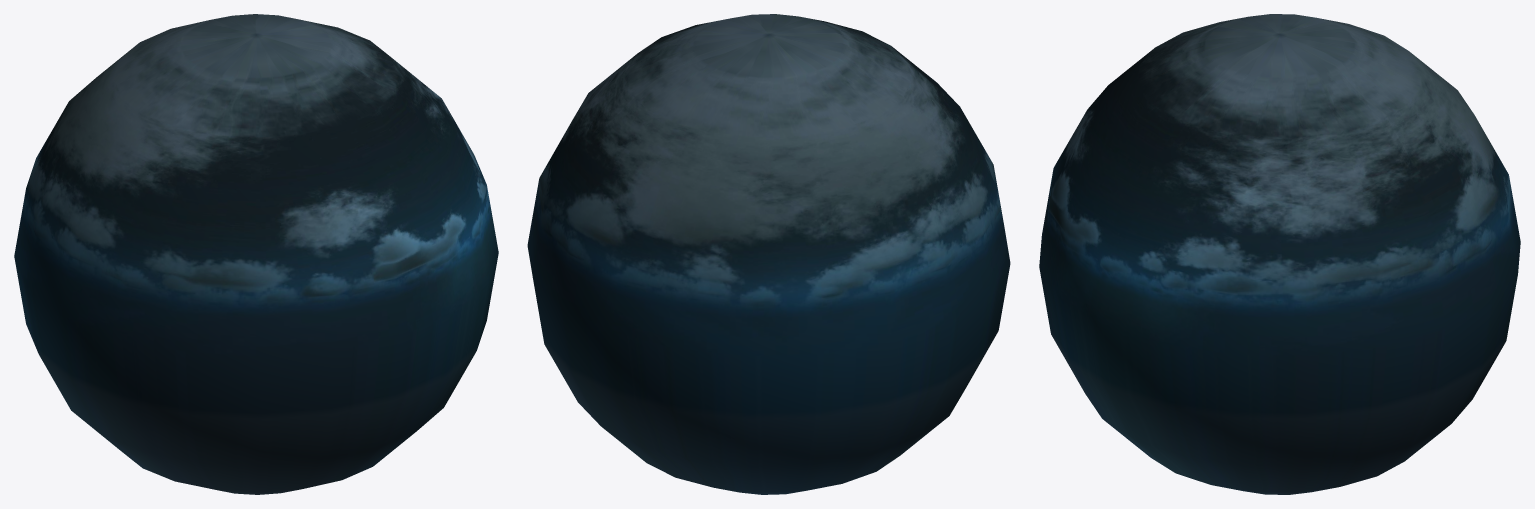
Rendered from gba_rainbow_road.glb.
The picture shows the model from 3 angles, left to right: view 1: azimuth 30°, elevation 25°; view 2: azimuth 150°, elevation 25°; view 3: azimuth 270°, elevation 25°; orthographic projection.
Visible parts, largest first — view 1: Object_6; view 2: Object_6; view 3: Object_6.
Part boxes in pixels (x1=…): Object_6: x1=14, y1=14, x2=498, y2=494; Object_6: x1=527, y1=14, x2=1010, y2=494; Object_6: x1=1039, y1=14, x2=1520, y2=494.
Bounding box in the file's own units: 329 × 332 × 329.
8 materials, 7 textured.
